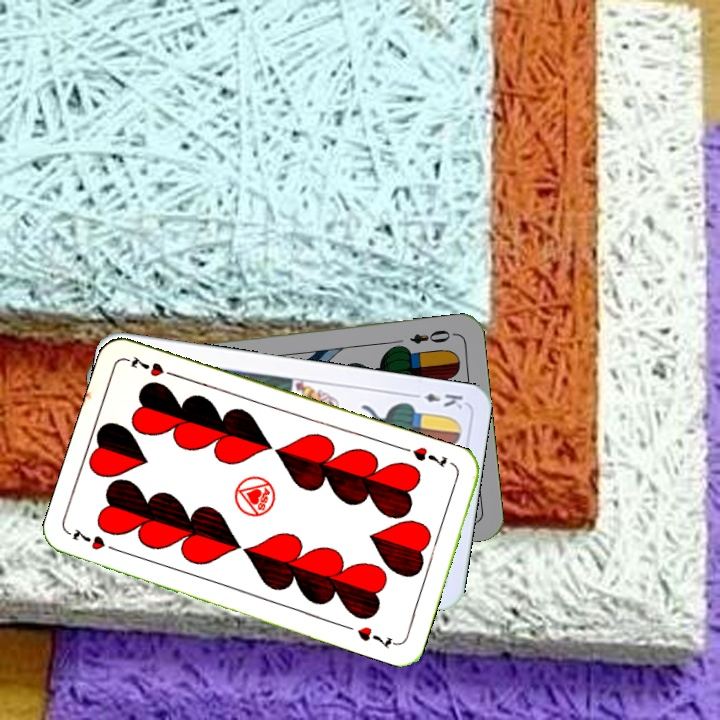EK: (407, 389, 466, 412)
EO: (406, 325, 458, 346)
H7: (66, 524, 123, 555), (409, 443, 450, 471)
